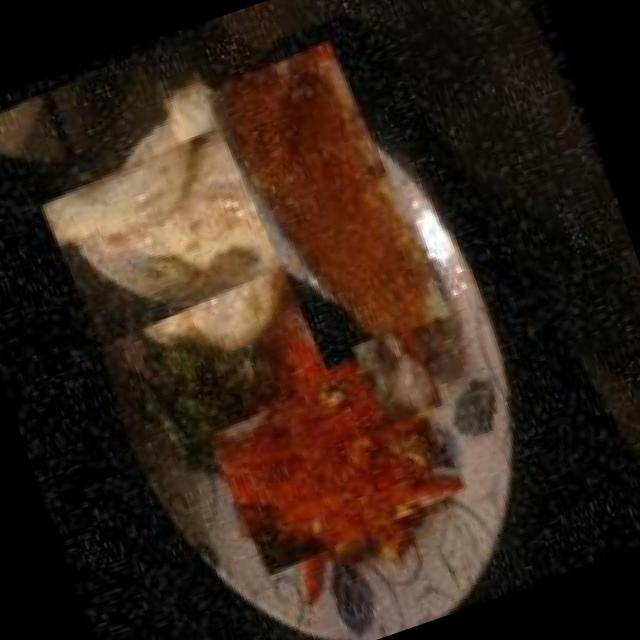carrot_eggs: (210, 335, 464, 589)
fried_chicken: (200, 28, 457, 379)
fried_eggs: (48, 90, 321, 363)
rice: (351, 317, 447, 428)
